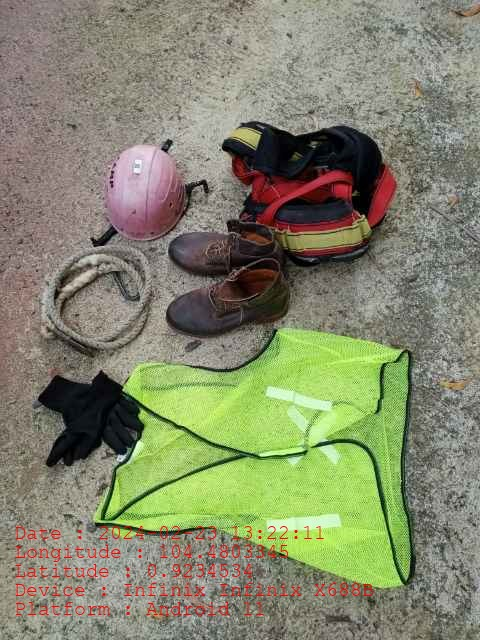HELM: (109, 145, 188, 242)
